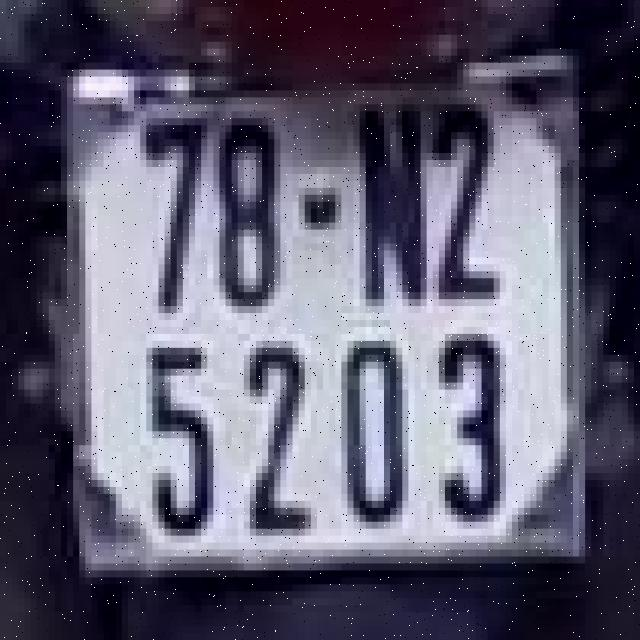0: (336, 334, 414, 529)
2: (232, 338, 323, 532), (433, 87, 506, 310)
3: (427, 327, 512, 529)
5: (137, 341, 223, 542)
7: (134, 108, 213, 316)
8: (208, 108, 286, 316)
N: (353, 91, 432, 306)
